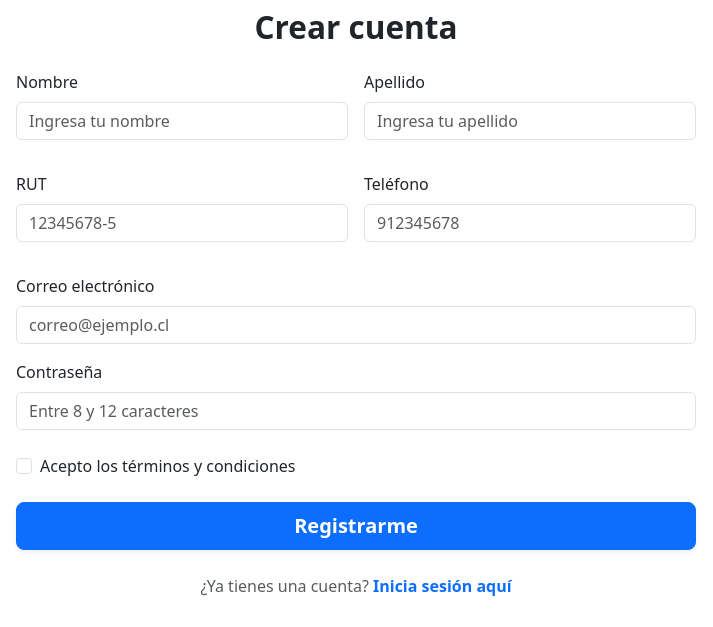
it: Componente Registro › muestra errores visuales al enviar el formulario vacío
The width and height of the screenshot is (713, 627).
Click the button "Registrarme": coordinates (356, 526) [16,502,696,550]
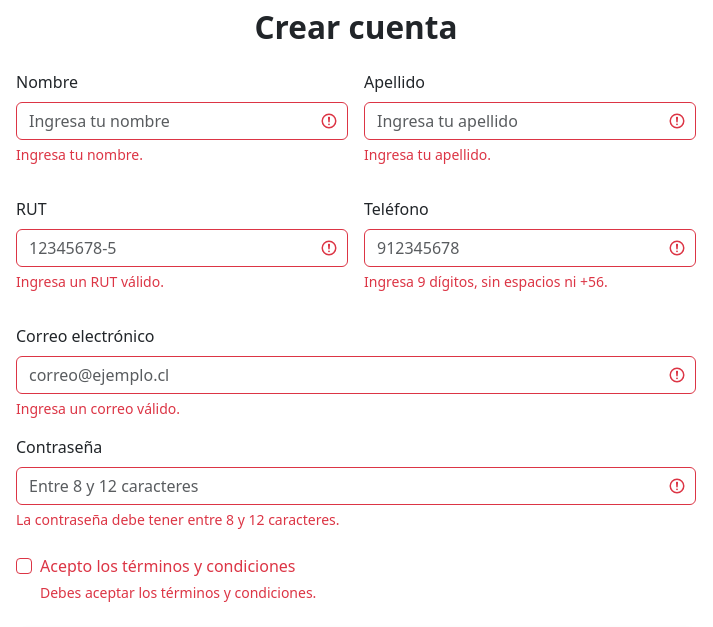
Expected: the text "Ingresa tu nombre." is shown, [16,145,143,164]
Expected: the text "Ingresa un RUT válido." is shown, [16,272,164,291]
Expected: the text "Debes aceptar los términos y condiciones." is shown, [40,583,316,602]
